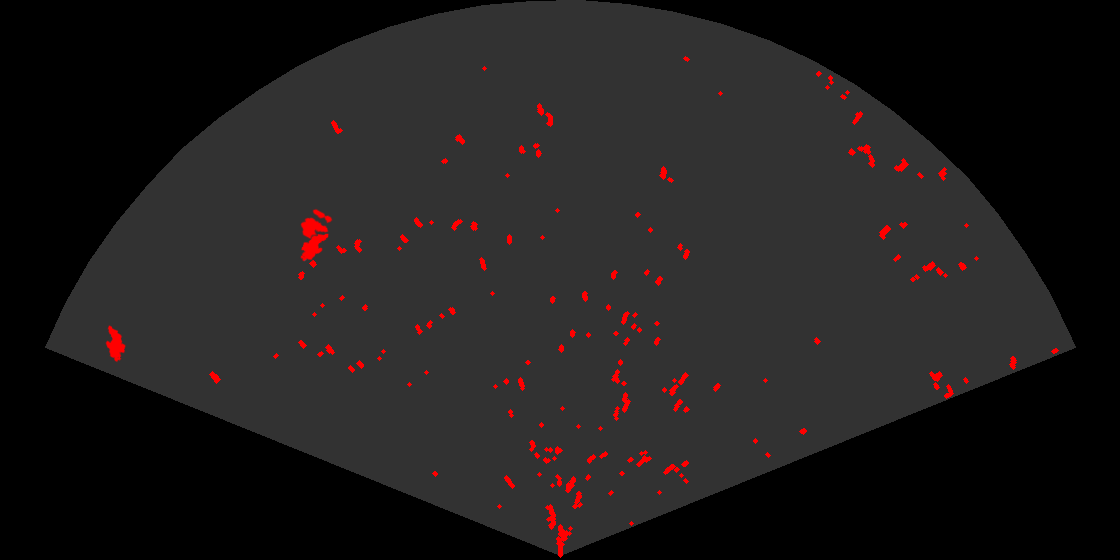AUV: (299, 232, 331, 263), (104, 323, 127, 364)
ball: (299, 207, 334, 244)
